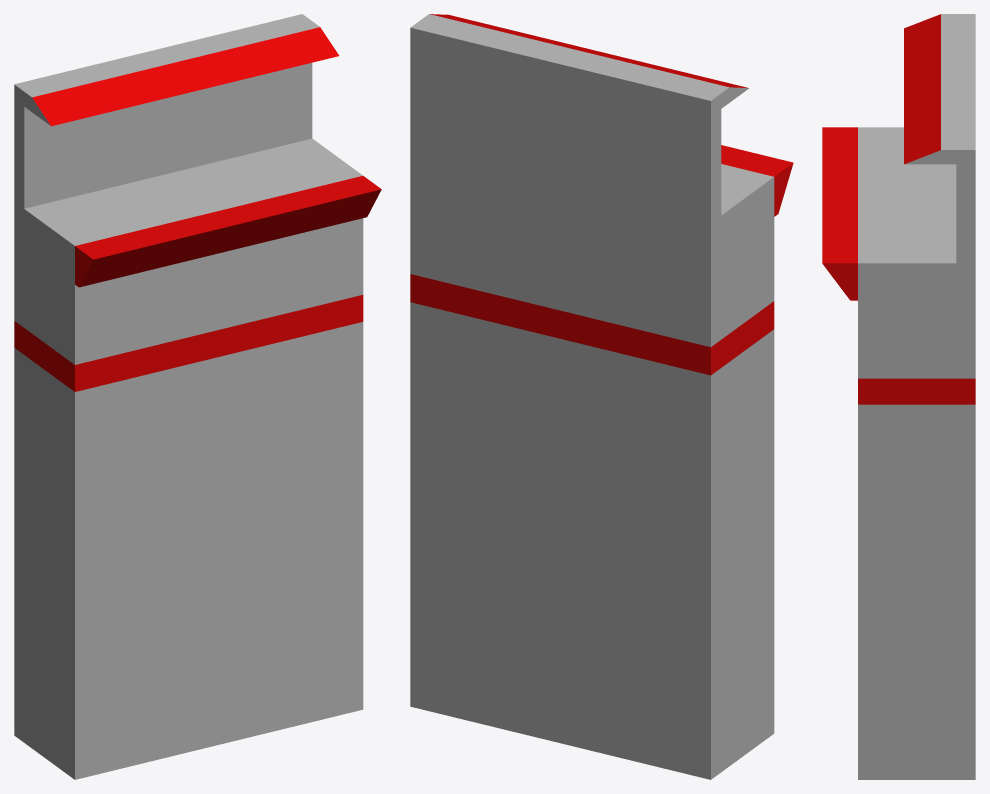
Rendered from platform_guard.fbx.
3 views of the same model, side by side, from view 1: azimuth 30°, elevation 25°; view 2: azimuth 150°, elevation 25°; view 3: azimuth 270°, elevation 25° (orthographic). The views are drawn at different scales.
Visible parts, largest first — view 1: guard_platform; view 2: guard_platform; view 3: guard_platform.
Part boxes in pixels (bbox=[...]): guard_platform: bbox=[14, 14, 381, 779]; guard_platform: bbox=[410, 14, 793, 779]; guard_platform: bbox=[822, 14, 975, 779].
Size of the model in its own units: 48.88 by 106 by 23.31.
